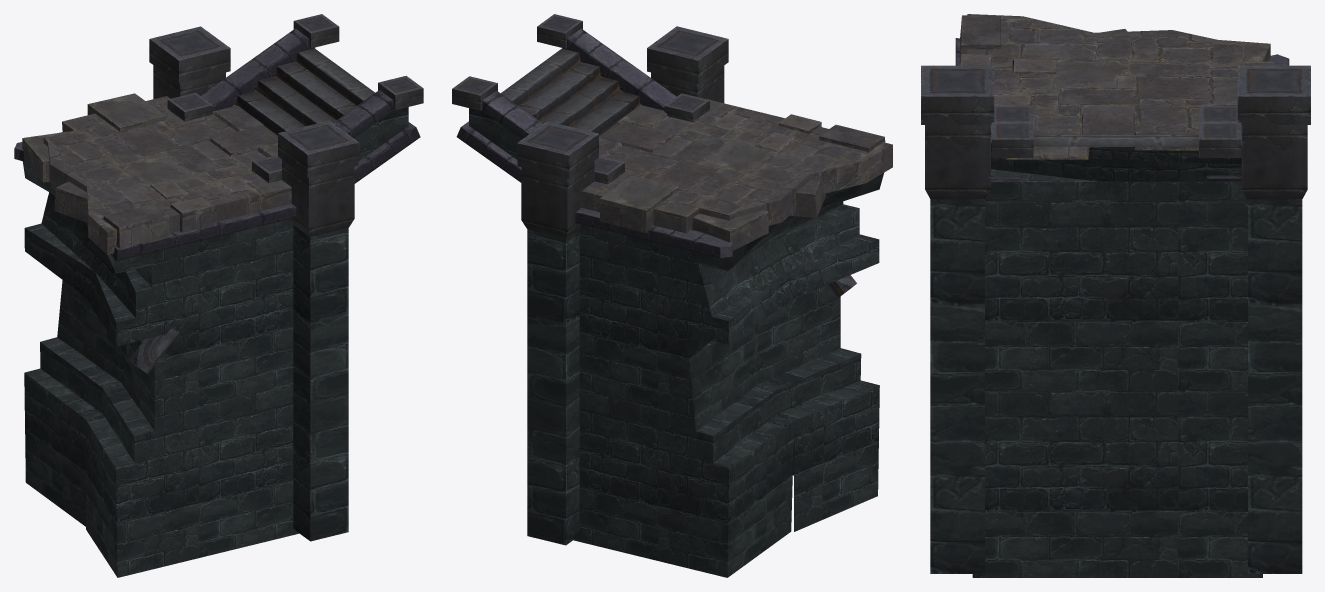
File: terrain_section02_guanka10D_02.FBX
3 renders of one model, left to right at view 1: azimuth 30°, elevation 25°; view 2: azimuth 150°, elevation 25°; view 3: azimuth 270°, elevation 25°, orthographic. The views are drawn at different scales.
Parts seen in each view (by area): view 1: terrain_section02_guanka10D_02; view 2: terrain_section02_guanka10D_02; view 3: terrain_section02_guanka10D_02.
Boxes of the visible parts, <box> form: terrain_section02_guanka10D_02: <box>14,14,423,577</box>; terrain_section02_guanka10D_02: <box>452,14,892,577</box>; terrain_section02_guanka10D_02: <box>921,14,1310,577</box>.
Size of the model in its own units: 14.3 by 12.03 by 17.08.
